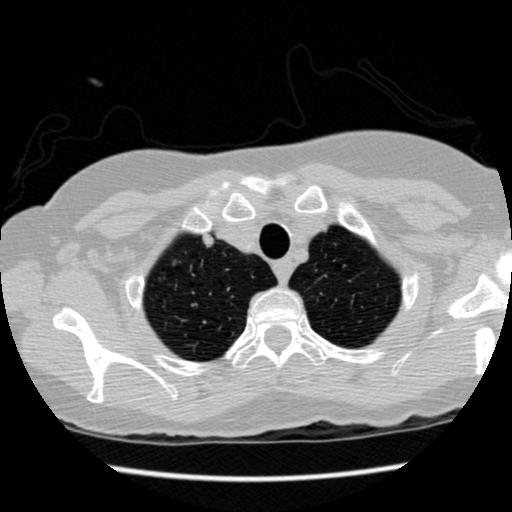nodule: (199, 232, 216, 249)
